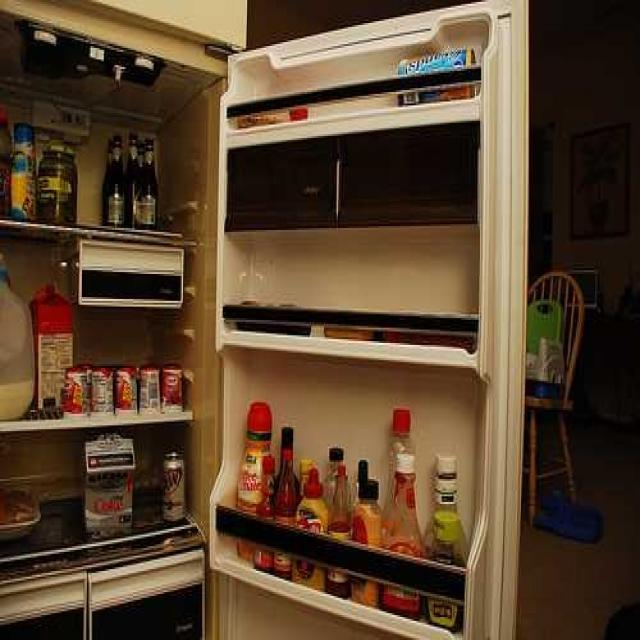refrigerator: (0, 0, 529, 640)
